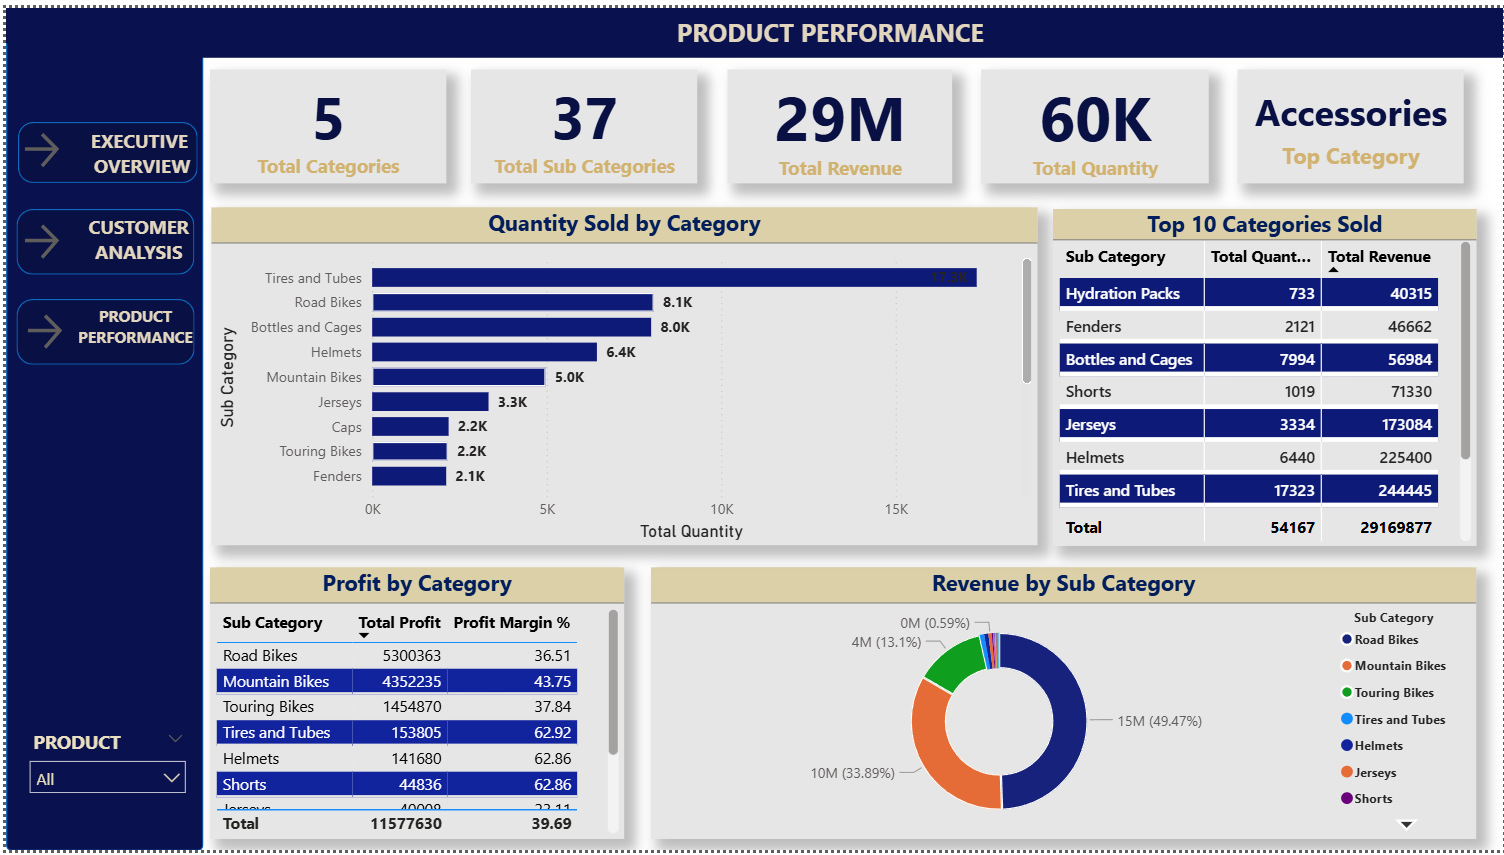

Layout of this report page (visuals, bound fields, positions):
{"tool":"powerbi","page":{"name":"Product Performance","canvas":[1280,720],"ordinal":2},"visuals":[{"type":"shape","box":[0,0,168.8,720.5],"z":0},{"type":"actionButton","box":[10.1,101.4,39.1,40.6],"z":0,"group":"g2"},{"type":"shape","box":[0,0,1280.4,30.2],"z":1000},{"type":"actionButton","box":[10.1,179.7,39.1,40.6],"z":1000,"group":"g2"},{"type":"shape","box":[10.1,97.1,153.6,52.2],"z":2000},{"type":"actionButton","box":[13,256.5,39.1,40.6],"z":2000,"group":"g2"},{"type":"shape","box":[9.6,171.2,152.1,56.2],"z":3000},{"type":"shape","box":[9.6,248.4,152.3,56.3],"z":4000},{"type":"textbox","box":[52.2,97.1,134.8,52.2],"z":5000},{"type":"card","fields":{"Values":["Count(gold dim_products.category)"]},"box":[174,52.1,201.7,97.4],"z":6000,"group":"g1"},{"type":"textbox","box":[52.2,171,121.7,56.5],"z":6000},{"type":"card","fields":{"Values":["Count(gold dim_products.subcategory)"]},"box":[397.7,52.1,193.5,97.4],"z":7000,"group":"g1"},{"type":"textbox","box":[52.2,249.3,115.9,55.1],"z":7000},{"type":"card","fields":{"Values":["gold fact_sales.Total Revenue"]},"box":[615.9,52.1,192.1,97.4],"z":8000,"group":"g1"},{"type":"donutChart","title":"Revenue by Sub Category","fields":{"Y":["gold fact_sales.Total Revenue"],"Category":["gold dim_products.subcategory"]},"box":[551.7,477.6,705.4,231.9],"z":8000},{"type":"shape","box":[7.9,0,1272.1,42.5],"z":9000},{"type":"card","fields":{"Values":["gold fact_sales.Total Quantity"]},"box":[832.7,52.1,194.9,97.4],"z":9000,"group":"g1"},{"type":"textbox","box":[432.9,0,542.5,42.5],"z":10000},{"type":"card","fields":{"Values":["Min(gold dim_products.category)"]},"box":[1052.3,52.1,193.5,97.4],"z":10000,"group":"g1"},{"type":"group","id":"g1","title":"Group 2","box":[174,52.1,1072.6,97.3],"z":11000},{"type":"clusteredBarChart","title":"Quantity Sold by Category","fields":{"Category":["gold dim_products.subcategory"],"Y":["gold fact_sales.Total Quantity"]},"box":[175.4,171,705.8,288.4],"z":12000},{"type":"tableEx","title":" Top 10 Categories Sold","fields":{"Values":["gold dim_products.subcategory","gold fact_sales.Total Quantity","gold fact_sales.Total Revenue"]},"box":[894.6,171.7,362.3,288.2],"z":13000},{"type":"slicer","fields":{"Values":["gold dim_products.product_line"]},"box":[10.1,610.1,153.6,72.5],"z":14000},{"type":"tableEx","title":"Profit by Category","fields":{"Values":["gold dim_products.Sub Category","gold fact_sales.Total Profit","gold fact_sales.Profit Margin %"]},"box":[174.3,477.6,354.1,231.9],"z":15000},{"type":"group","id":"g2","title":"Group 1","box":[10.1,101.4,42,195.7],"z":16000}]}

Visuals, with their boxes in screenshot pixels (x1, y1, x2, y2), scaled from the page's 1280x720 canvas onto the 1504x855 screenshot:
shape: select_region(0, 0, 198, 854)
actionButton: select_region(12, 120, 58, 169)
shape: select_region(0, 0, 1503, 36)
actionButton: select_region(12, 213, 58, 262)
shape: select_region(12, 115, 192, 177)
actionButton: select_region(15, 305, 61, 353)
shape: select_region(11, 203, 190, 270)
shape: select_region(11, 295, 190, 362)
textbox: select_region(61, 115, 220, 177)
card - Count(gold dim_products.category): select_region(204, 62, 441, 178)
textbox: select_region(61, 203, 204, 270)
card - Count(gold dim_products.subcategory): select_region(467, 62, 695, 178)
textbox: select_region(61, 296, 198, 361)
card - gold fact_sales.Total Revenue: select_region(724, 62, 949, 178)
"Revenue by Sub Category" donutChart: select_region(648, 567, 1477, 843)
shape: select_region(9, 0, 1503, 50)
card - gold fact_sales.Total Quantity: select_region(978, 62, 1207, 178)
textbox: select_region(509, 0, 1146, 50)
card - Min(gold dim_products.category): select_region(1236, 62, 1464, 178)
"Group 2" group: select_region(204, 62, 1465, 177)
"Quantity Sold by Category" clusteredBarChart: select_region(206, 203, 1035, 546)
" Top 10 Categories Sold" tableEx: select_region(1051, 204, 1477, 546)
slicer - gold dim_products.product_line: select_region(12, 724, 192, 811)
"Profit by Category" tableEx: select_region(205, 567, 621, 843)
"Group 1" group: select_region(12, 120, 61, 353)
